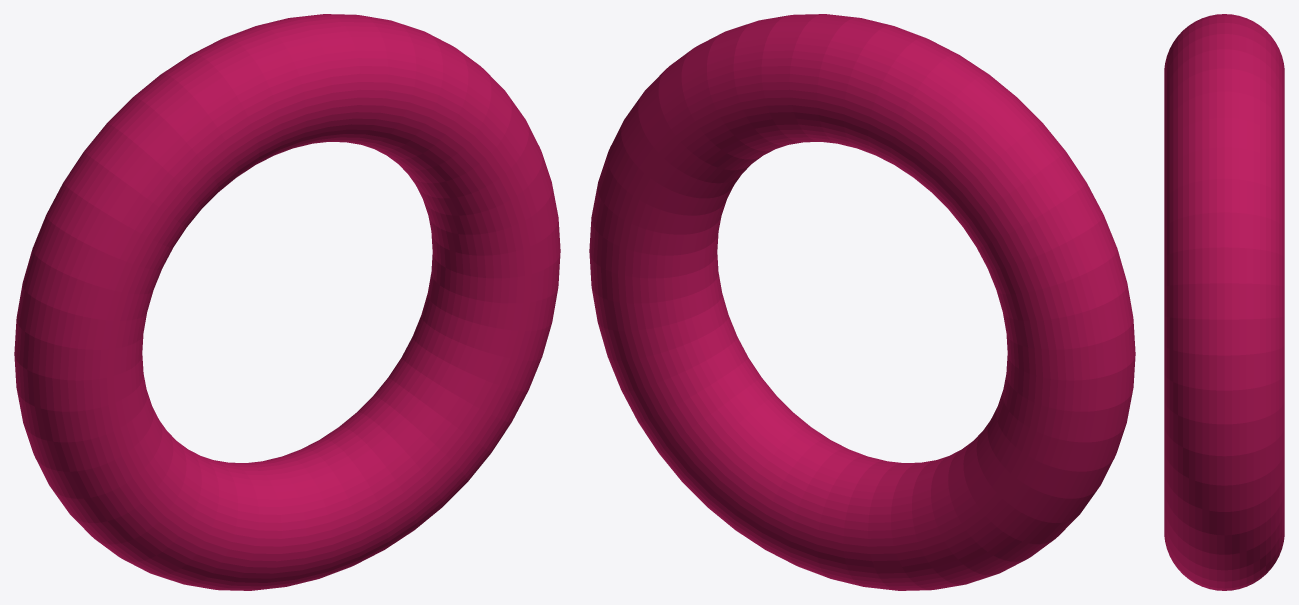
3 renders of one model, left to right at view 1: azimuth 30°, elevation 25°; view 2: azimuth 150°, elevation 25°; view 3: azimuth 270°, elevation 25°, orthographic. The views are drawn at different scales.
Visible parts, largest first — view 1: world; view 2: world; view 3: world.
Boxes of the visible parts, x1,y1,x2,y2 form: world: [14, 14, 560, 590]; world: [589, 14, 1135, 590]; world: [1164, 14, 1284, 590].
Size of the model in its own units: 33.73 by 33.67 by 7.05.
